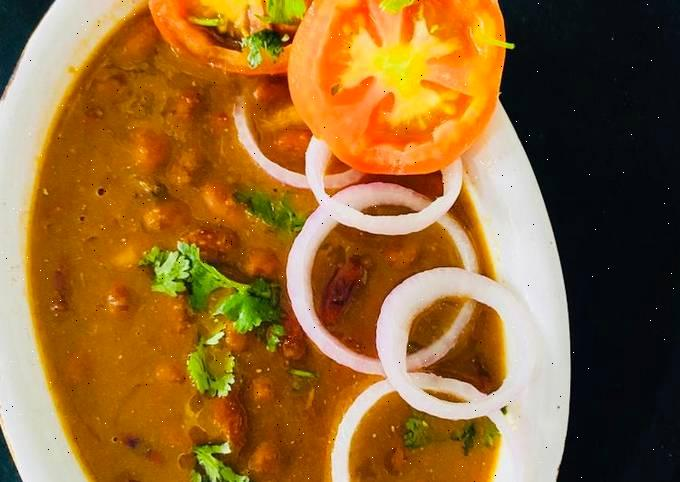rajma: (47, 163, 496, 482)
